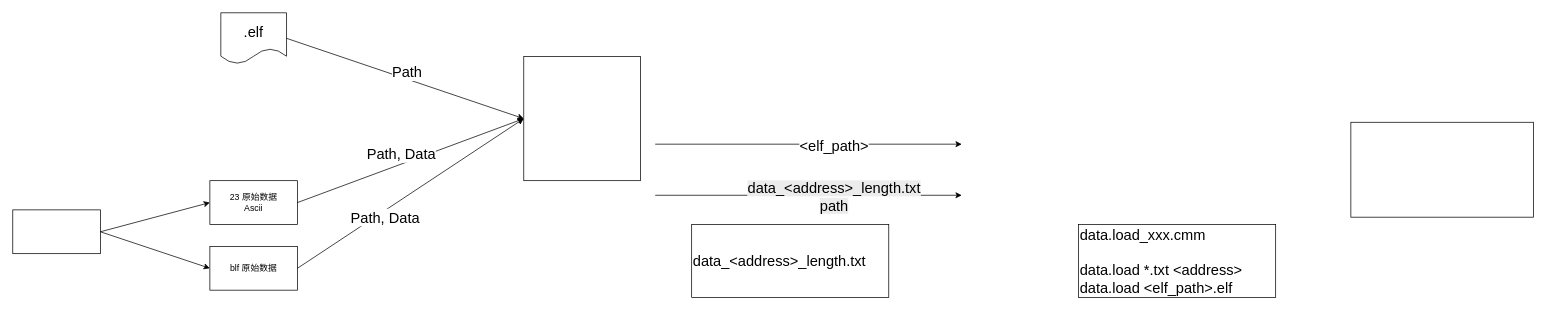
Some shapes in this 1546 by 310 pixel diagram are drawn without their labels. The shapes that lost their labels are listed below. From the top down, each one's box as (x1, y1, x2, y2) in pixels, then its label:
(523, 56, 641, 181): Analyzer
(1350, 122, 1533, 217): Trace32
(12, 209, 100, 254): CAN
